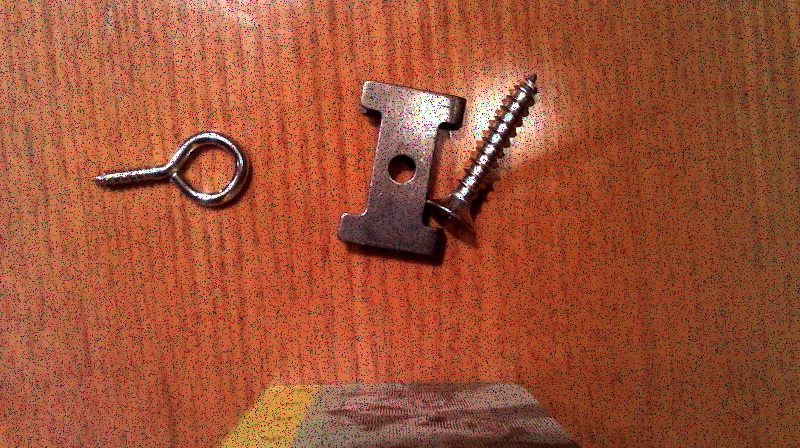O001: (83, 128, 254, 212)
O002: (336, 78, 469, 265)
S001: (423, 71, 540, 241)
